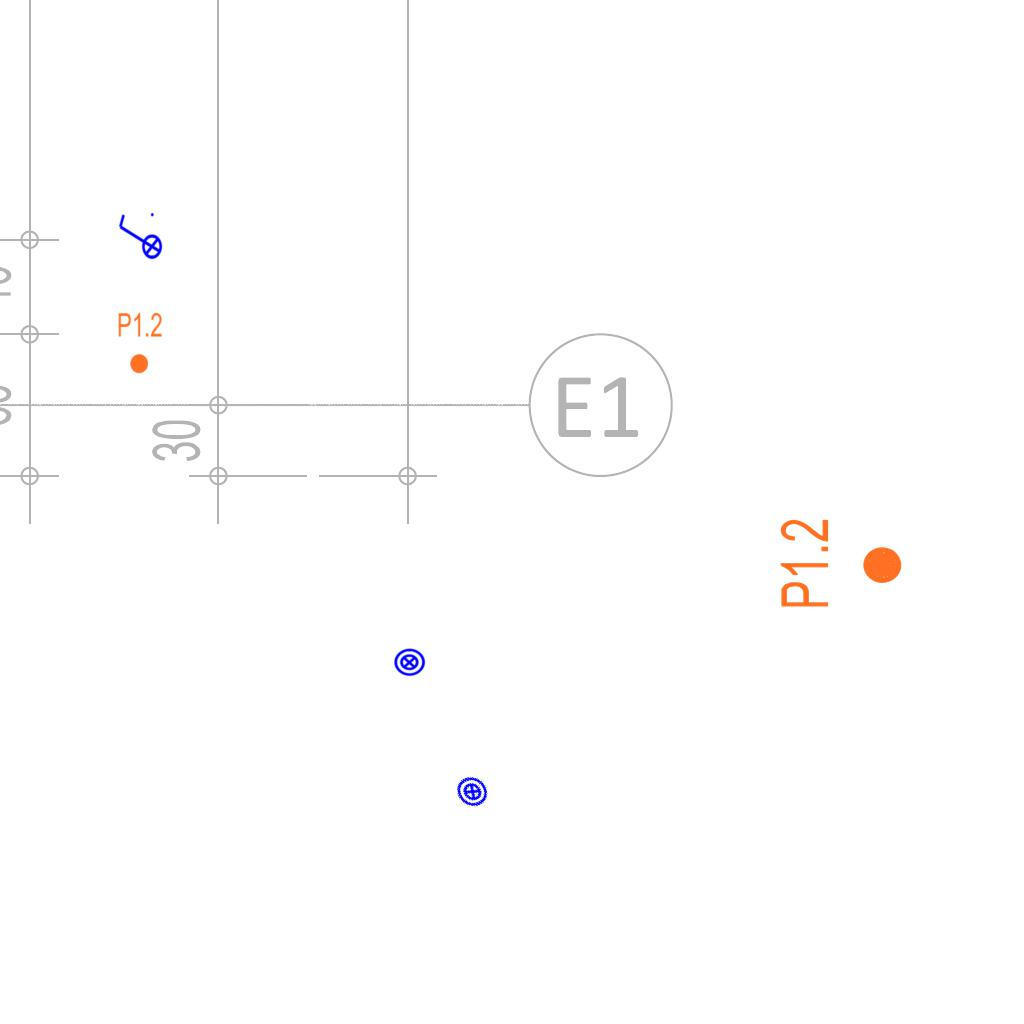Ausschalter_beleuchtet: (115, 210, 163, 266)
Downlight_LED_Einbauleuchten_Flur: (777, 517, 905, 610), (117, 311, 163, 375)
Taster_beleuchtet: (449, 768, 496, 815), (393, 646, 426, 679)
